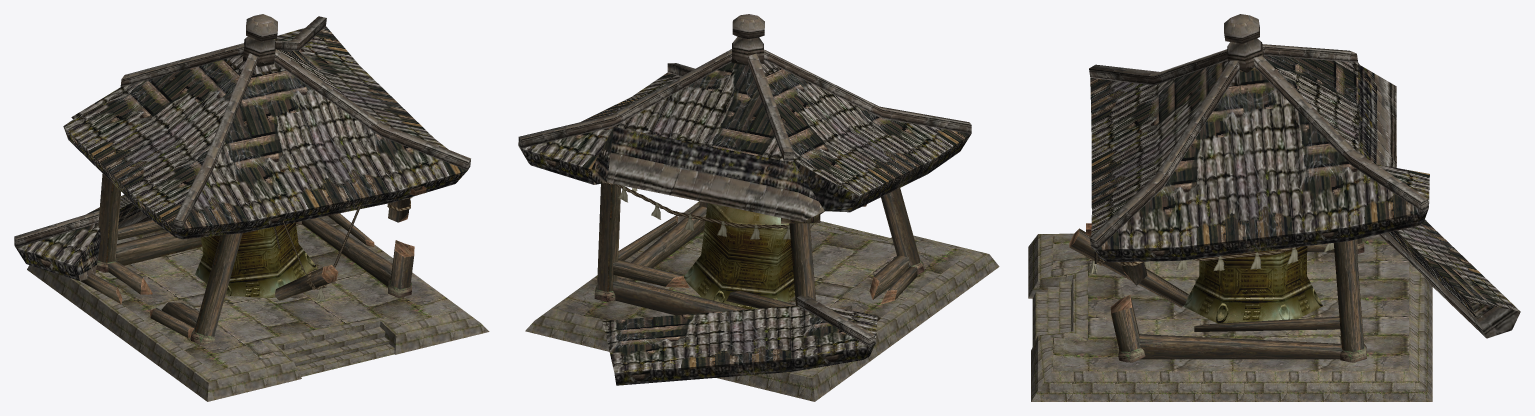
The model's file is Hangzhou_wj_050.FBX.
3 views of the same model, side by side, from view 1: azimuth 30°, elevation 25°; view 2: azimuth 150°, elevation 25°; view 3: azimuth 270°, elevation 25° (orthographic). The views are drawn at different scales.
Visible parts, largest first — view 1: Box02; view 2: Box02; view 3: Box02.
Boxes of the visible parts, x1=… form: Box02: x1=14, y1=14, x2=489, y2=401; Box02: x1=518, y1=14, x2=999, y2=401; Box02: x1=1028, y1=14, x2=1520, y2=401.
Size of the model in its own units: 579 by 466 by 668.
5 materials, 5 textured.
